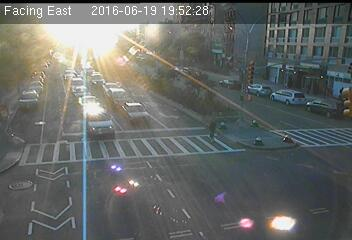neg: (121, 141, 140, 166), (266, 26, 283, 49)
pos: (202, 117, 224, 146)
